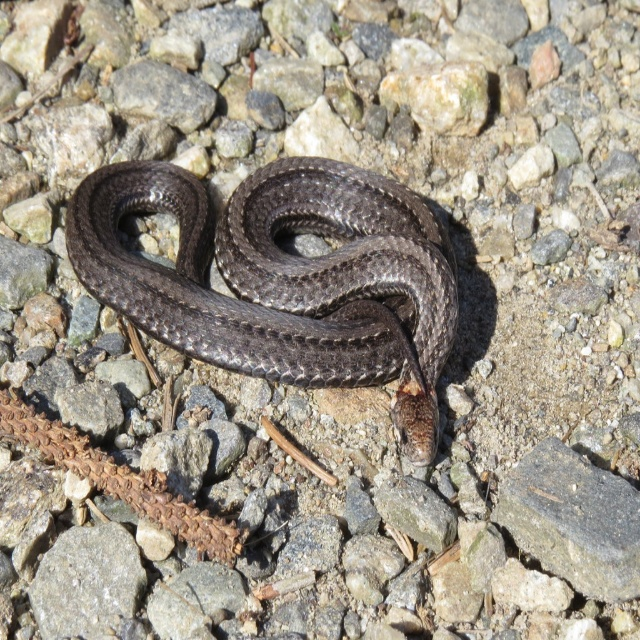Snake: (67, 156, 459, 467)
